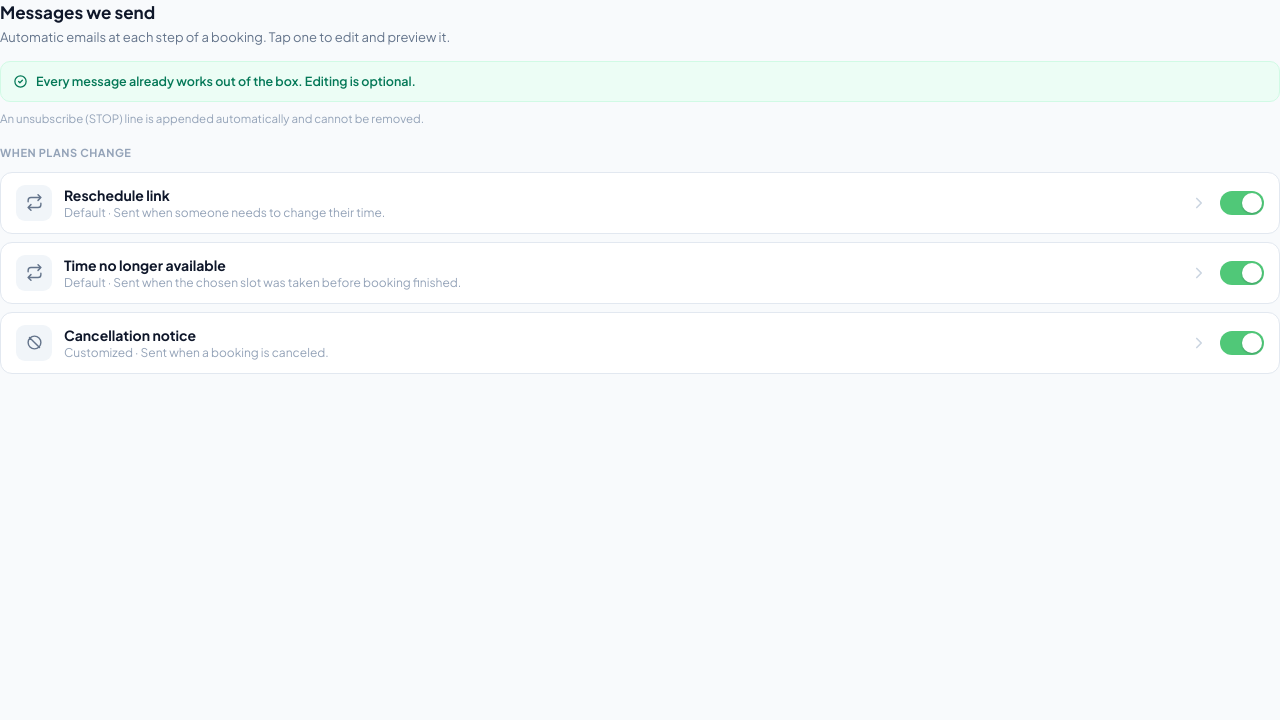
Test: NotificationTemplatesEditor (E14) — message list › opens a slide-over seeded from the OVERRIDE only — a default moment starts blank with the default as placeholder (audit row 7)
The width and height of the screenshot is (1280, 720).
Expected: the text "Reschedule link" is shown, [64,186,170,204]
Click the button "Reschedule link" at (34, 202), box [16,184,1208,220]
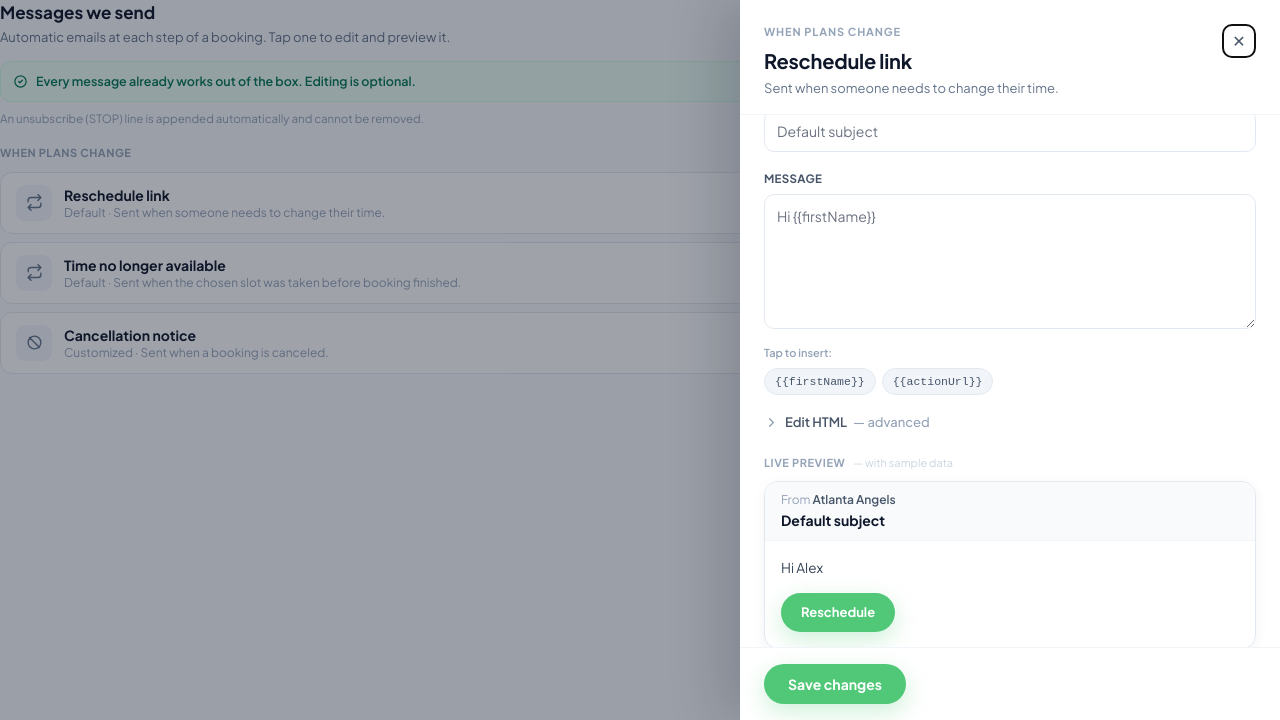
Result: the field labelled "SUBJECT" is empty at [764,115,1256,152]
Result: the button with aria-label "Insert {{firstName}} into message" is shown at [764,368,876,395]
